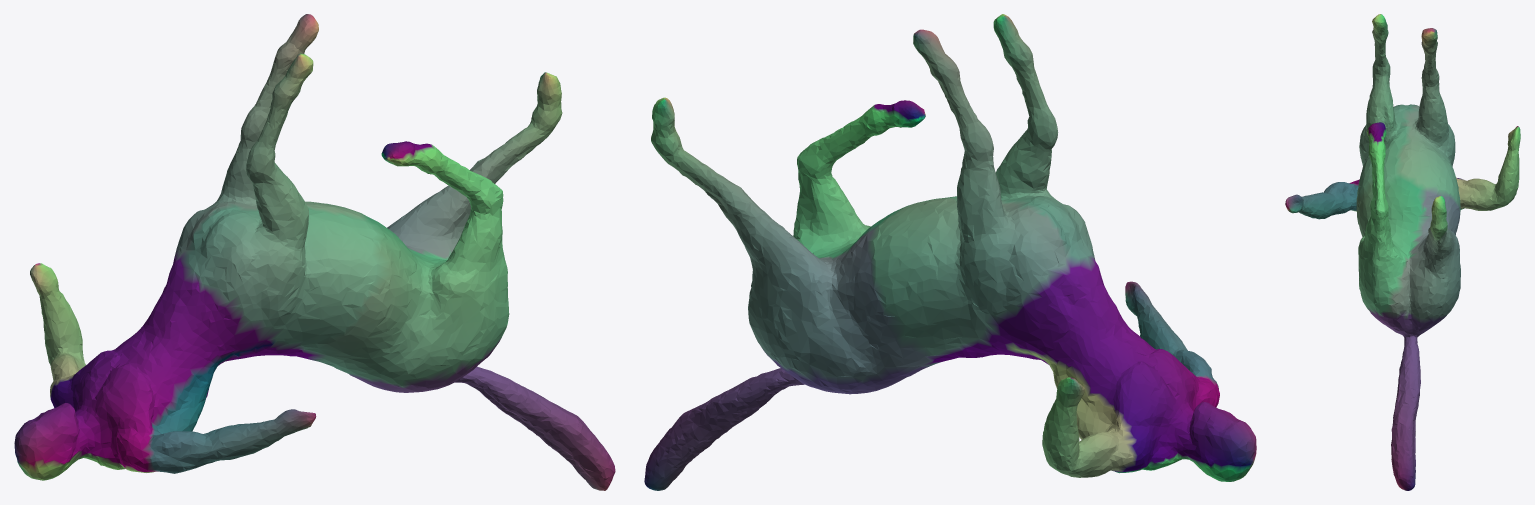
The model's file is centaur-13.off.obj.
The picture shows the model from 3 angles, left to right: view 1: azimuth 30°, elevation 25°; view 2: azimuth 150°, elevation 25°; view 3: azimuth 270°, elevation 25°; orthographic projection. The views are drawn at different scales.
Size of the model in its own units: 1.36 by 1.16 by 0.6692.
